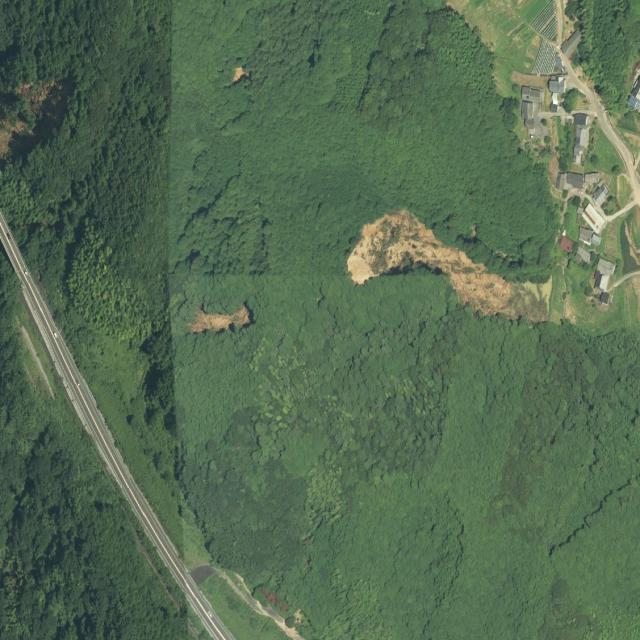landslide: (348, 209, 552, 322), (187, 304, 250, 333)
